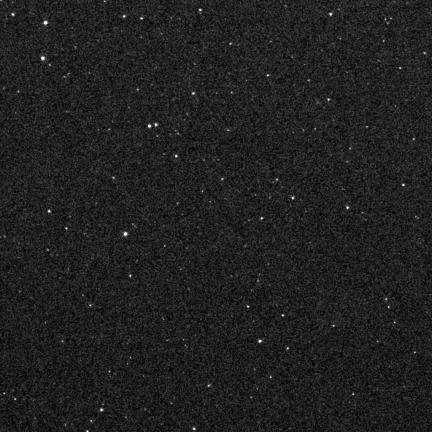blob: (41, 56, 45, 60), (44, 21, 48, 25), (124, 232, 128, 236), (148, 125, 151, 128)
